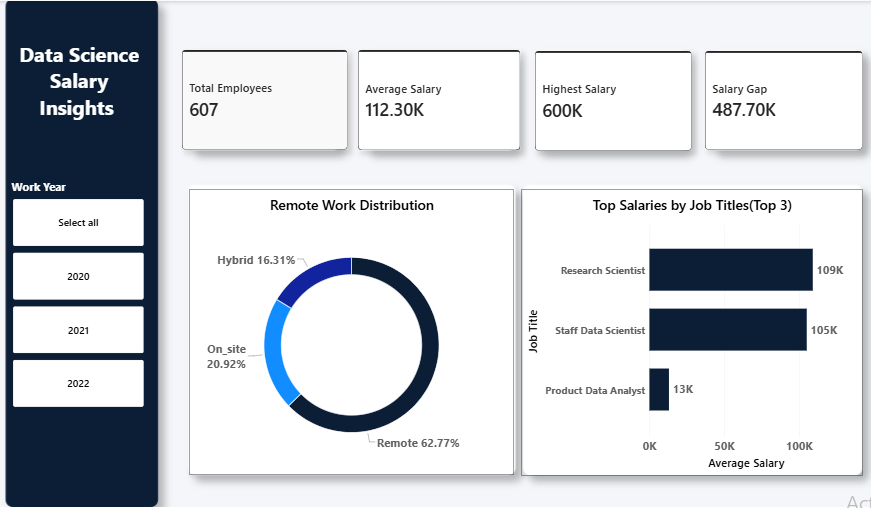

The dashboard page shown, as its layout file describes it:
{"tool":"powerbi","page":{"name":"Salary Analysis & Visualizations","canvas":[1920,1080],"ordinal":0},"visuals":[{"type":"cardVisual","title":"Total Employees","fields":{"Data":["fact_salaries.total_employees"]},"box":[444.3,104.2,352.9,212.6],"z":0},{"type":"cardVisual","fields":{"Data":["fact_salaries.average_salary_usd"]},"box":[818.6,103.7,345.6,213.8],"z":1000},{"type":"cardVisual","fields":{"Data":["fact_salaries.highest_salary_usd"]},"box":[1194.8,106.3,333.8,212.6],"z":2000},{"type":"cardVisual","fields":{"Data":["fact_salaries.salary_gap"]},"box":[1556.2,106.3,335.9,210.5],"z":3000},{"type":"donutChart","title":"Remote Work Distribution","fields":{"Category":["fact_salaries.remote_ratio"],"Y":["fact_salaries.total_employees"]},"box":[459.2,399.7,690.9,608],"z":4000},{"type":"clusteredBarChart","title":"Top Salaries by Job Titles(Top 3)","fields":{"Category":["dim_jobs.job_title"],"Y":["fact_salaries.average_salary_usd"]},"box":[1165,399.7,727.1,610.2],"z":5000},{"type":"textbox","box":[69.1,82.1,311,194.4],"z":5001},{"type":"textbox","box":[53.1,378.4,172.8,43.2],"z":5002},{"type":"advancedSlicerVisual","fields":{"Values":["fact_salaries.work_year"]},"box":[85,420.9,278.5,442.2],"z":5003}]}

Visuals, with their boxes on the page's 1920x1080 design canvas (x1, y1, x2, y2). These are canvas units, not pixel positions in the 871x508 screenshot, which may show the page scaled, cropped or inside an application window:
"Total Employees" cardVisual: 444/104/797/317
cardVisual - fact_salaries.average_salary_usd: 819/104/1164/318
cardVisual - fact_salaries.highest_salary_usd: 1195/106/1529/319
cardVisual - fact_salaries.salary_gap: 1556/106/1892/317
"Remote Work Distribution" donutChart: 459/400/1150/1008
"Top Salaries by Job Titles(Top 3)" clusteredBarChart: 1165/400/1892/1010
textbox: 69/82/380/276
textbox: 53/378/226/422
advancedSlicerVisual - fact_salaries.work_year: 85/421/364/863
